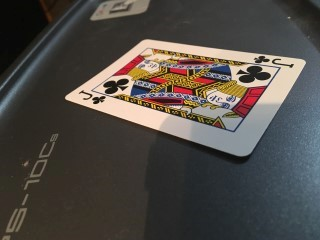JackOfClubs: (64, 39, 306, 156)
